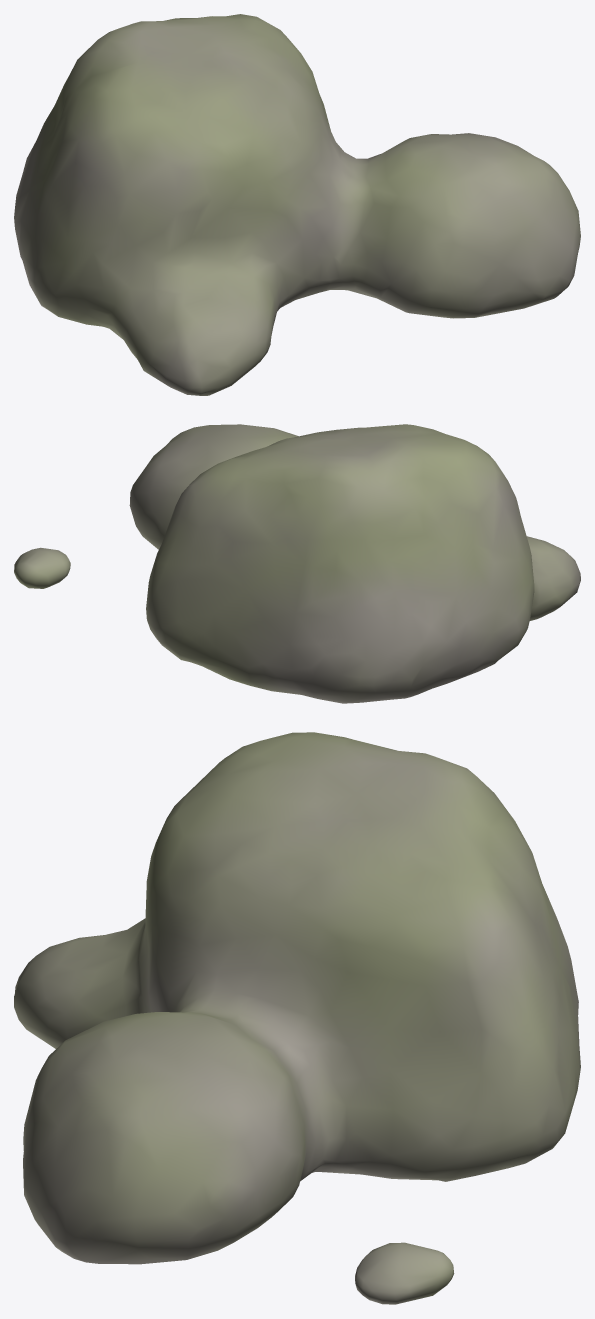
The model's file is rock3.glb.
3 views of the same model, one above another, from view 1: azimuth 30°, elevation 25°; view 2: azimuth 150°, elevation 25°; view 3: azimuth 270°, elevation 25° (orthographic). The views are drawn at different scales.
Parts seen in each view (by area): view 1: body; view 2: body; view 3: body.
Boxes of the visible parts, x1,y1,x2,y2 form: body: [14, 14, 580, 395]; body: [14, 424, 580, 703]; body: [14, 732, 580, 1304].
Bounding box in the file's own units: 1.7 × 0.7493 × 1.2.
